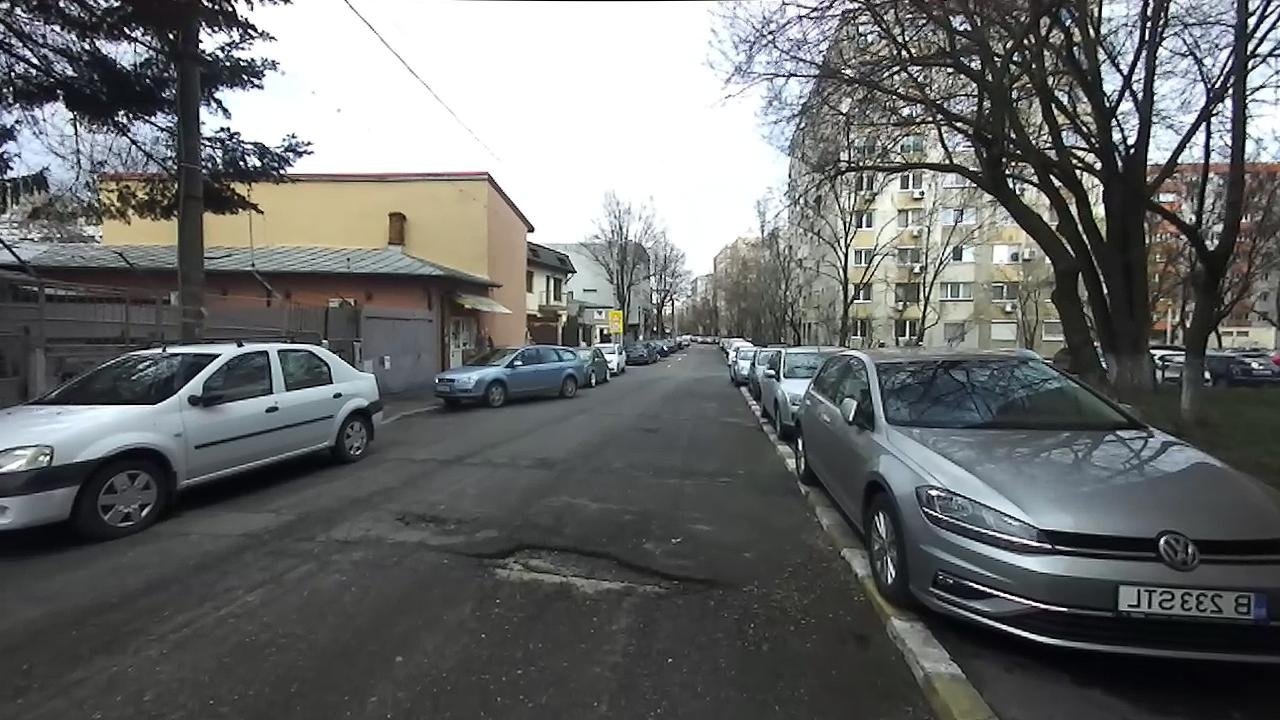pothole: (433, 538, 735, 603), (386, 504, 476, 534)
